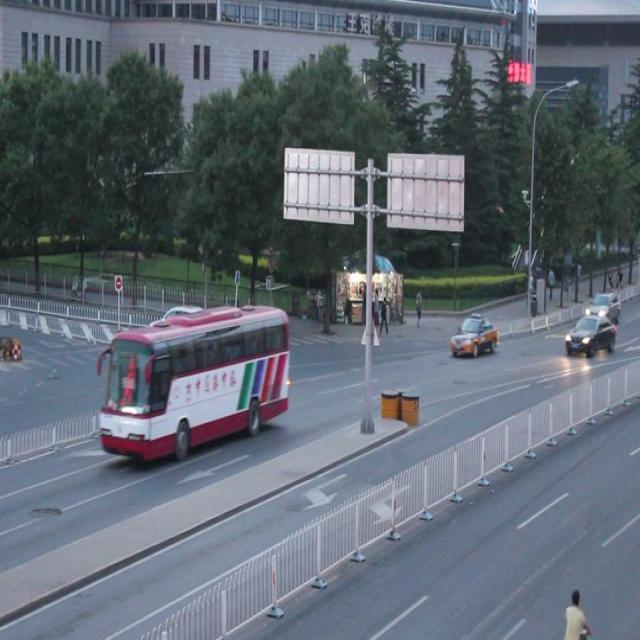car: (149, 307, 216, 359), (563, 310, 614, 356), (448, 313, 497, 357), (583, 290, 620, 318)
van: (103, 297, 290, 460)
